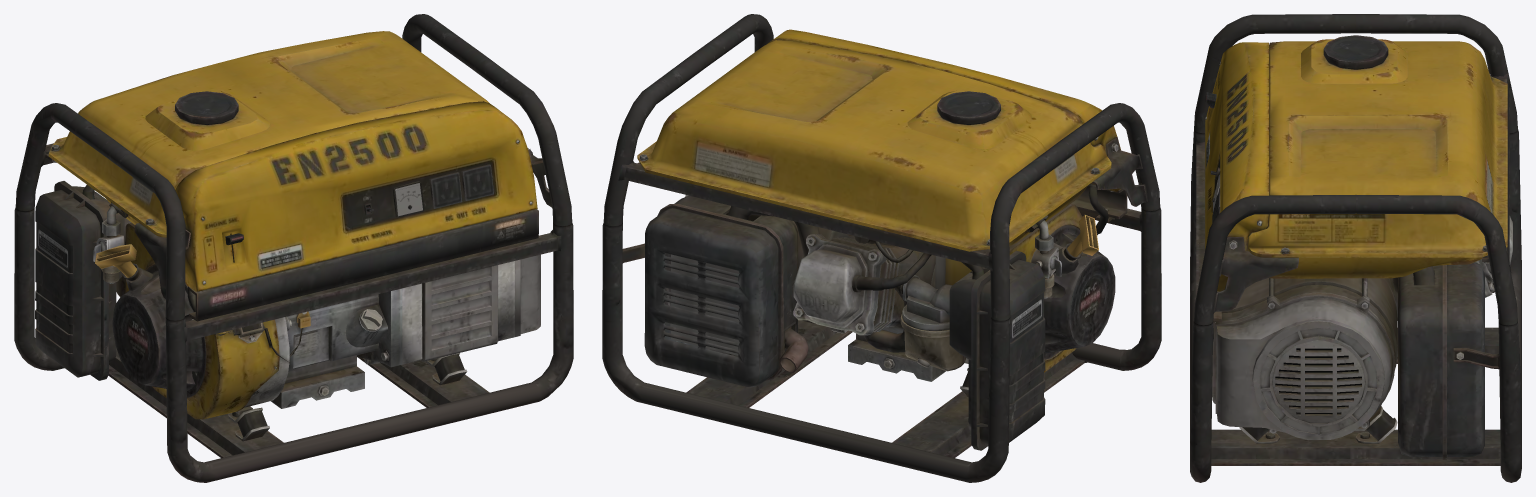
The model's file is portable_generator.glb.
3 renders of one model, left to right at view 1: azimuth 30°, elevation 25°; view 2: azimuth 150°, elevation 25°; view 3: azimuth 270°, elevation 25°, orthographic.
Visible parts, largest first — view 1: portable_generator; view 2: portable_generator; view 3: portable_generator.
Boxes of the visible parts, box(x1,y1,x2,y2) form: portable_generator: box(14, 14, 573, 482); portable_generator: box(602, 14, 1161, 482); portable_generator: box(1190, 14, 1521, 482).
Bounding box in the file's own units: 0.8169 × 0.5752 × 0.564.
2 materials, 2 textured.
